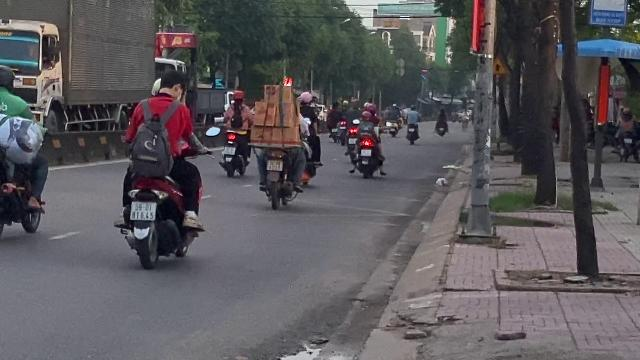licenseplate: (131, 201, 155, 219), (266, 158, 282, 170)
motorcyclist: (112, 62, 208, 268), (0, 57, 50, 243), (252, 75, 310, 208)
nohelmet: (154, 66, 186, 100)
